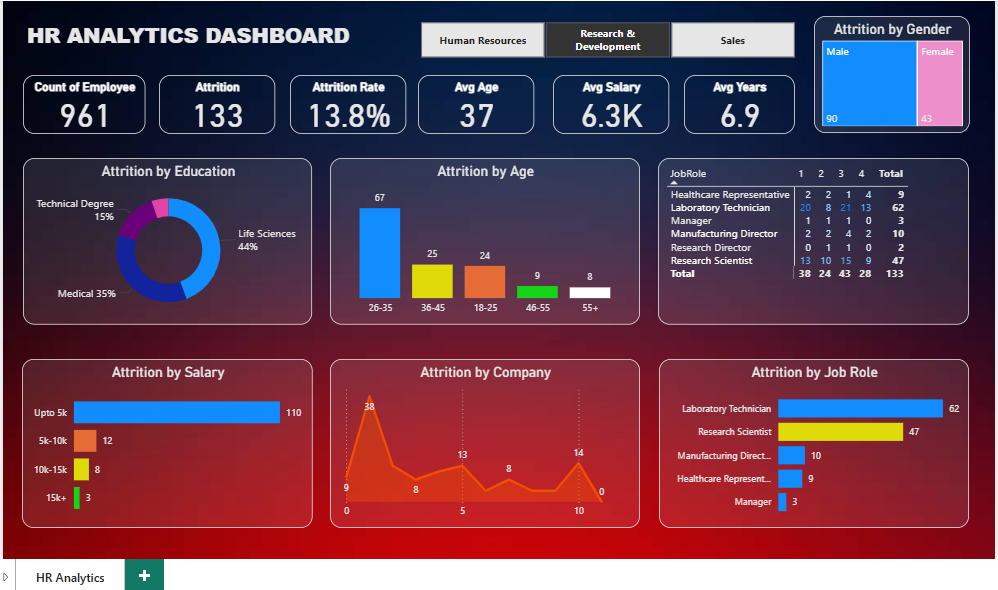

Layout of this report page (visuals, bound fields, positions):
{"tool":"powerbi","page":{"name":"Page 1","canvas":[1280,720],"ordinal":0},"visuals":[{"type":"card","title":"Count of Employee","fields":{"Values":["Count(HR_Analytics.EmpID)"]},"box":[26.4,95.1,158.5,75.7],"z":0},{"type":"card","title":"Attrition","fields":{"Values":["Sum(HR_Analytics.AttritionCount)"]},"box":[200.7,95.1,149.7,75.7],"z":1000},{"type":"card","title":"Attrition Rate","fields":{"Values":["HR_Analytics.AttritionRate"]},"box":[369.7,95.1,149.7,75.7],"z":2000},{"type":"card","title":"Avg Age","fields":{"Values":["Avg(HR_Analytics.Age)"]},"box":[535.2,95.1,149.7,75.7],"z":3000},{"type":"card","title":"Avg Years","fields":{"Values":["Avg(HR_Analytics.YearsAtCompany)"]},"box":[878.6,95.1,142.6,75.7],"z":4000},{"type":"card","title":"Avg Salary","fields":{"Values":["Avg(HR_Analytics.MonthlyIncome)"]},"box":[709.5,95.1,149.7,75.7],"z":5000},{"type":"donutChart","title":"Attrition by Education","fields":{"Category":["HR_Analytics.EducationField"],"Y":["Sum(HR_Analytics.AttritionCount)"]},"box":[26.4,202.5,373.3,214.8],"z":6000},{"type":"columnChart","title":"Attrition by Age","fields":{"Category":["HR_Analytics.AgeGroup"],"Y":["Sum(HR_Analytics.AttritionCount)"]},"box":[422.6,202.5,399.7,214.8],"z":7000},{"type":"pivotTable","fields":{"Rows":["HR_Analytics.JobRole"],"Columns":["HR_Analytics.JobSatisfaction"],"Values":["Sum(HR_Analytics.AttritionCount)"]},"box":[845.1,202.5,401.4,214.8],"z":8000},{"type":"barChart","title":"Attrition by Salary","fields":{"Category":["HR_Analytics.SalarySlab"],"Y":["Sum(HR_Analytics.AttritionCount)"]},"box":[24.6,461.3,375,218.3],"z":9000},{"type":"barChart","title":"Attrition by Job Role","fields":{"Y":["Sum(HR_Analytics.AttritionCount)"],"Category":["HR_Analytics.JobRole"]},"box":[846.9,461.3,399.7,218.3],"z":10000},{"type":"areaChart","title":"Attrition by Company","fields":{"Category":["HR_Analytics.YearsAtCompany"],"Y":["Sum(HR_Analytics.AttritionCount)"]},"box":[422.6,461.3,399.7,218.3],"z":11000},{"type":"treemap","title":"Attrition by Gender","fields":{"Values":["Sum(HR_Analytics.AttritionCount)"],"Group":["HR_Analytics.Gender"]},"box":[1045.8,19.4,200.7,151.4],"z":12000},{"type":"slicer","title":"Departments","fields":{"Values":["HR_Analytics.Department"]},"box":[513.4,20,532,58.6],"z":13000},{"type":"textbox","box":[25.7,20,463.4,60.1],"z":14000}]}

Visuals, with their boxes on the page's 1280x720 design canvas (x1, y1, x2, y2). These are canvas units, not pixel positions in the 998x590 screenshot, which may show the page scaled, cropped or inside an application window:
"Count of Employee" card: {"x1": 26, "y1": 95, "x2": 185, "y2": 171}
"Attrition" card: {"x1": 201, "y1": 95, "x2": 350, "y2": 171}
"Attrition Rate" card: {"x1": 370, "y1": 95, "x2": 519, "y2": 171}
"Avg Age" card: {"x1": 535, "y1": 95, "x2": 685, "y2": 171}
"Avg Years" card: {"x1": 879, "y1": 95, "x2": 1021, "y2": 171}
"Avg Salary" card: {"x1": 710, "y1": 95, "x2": 859, "y2": 171}
"Attrition by Education" donutChart: {"x1": 26, "y1": 202, "x2": 400, "y2": 417}
"Attrition by Age" columnChart: {"x1": 423, "y1": 202, "x2": 822, "y2": 417}
pivotTable - HR_Analytics.JobRole x HR_Analytics.JobSatisfaction: {"x1": 845, "y1": 202, "x2": 1246, "y2": 417}
"Attrition by Salary" barChart: {"x1": 25, "y1": 461, "x2": 400, "y2": 680}
"Attrition by Job Role" barChart: {"x1": 847, "y1": 461, "x2": 1247, "y2": 680}
"Attrition by Company" areaChart: {"x1": 423, "y1": 461, "x2": 822, "y2": 680}
"Attrition by Gender" treemap: {"x1": 1046, "y1": 19, "x2": 1246, "y2": 171}
"Departments" slicer: {"x1": 513, "y1": 20, "x2": 1045, "y2": 79}
textbox: {"x1": 26, "y1": 20, "x2": 489, "y2": 80}
